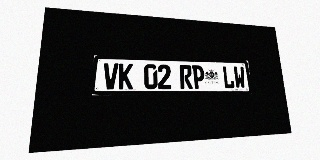0: (144, 64, 158, 89)
2: (158, 64, 171, 89)
K: (118, 63, 133, 89)
L: (222, 66, 235, 89)
P: (192, 65, 205, 89)
R: (179, 65, 193, 89)
V: (103, 63, 118, 89)
W: (233, 66, 246, 89)
